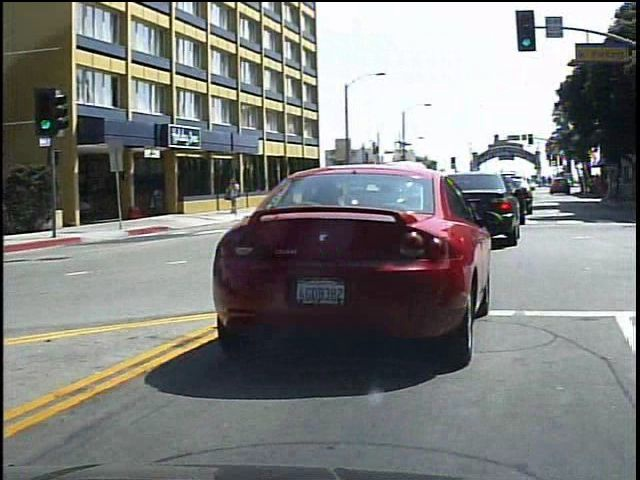person: (228, 174, 247, 218)
